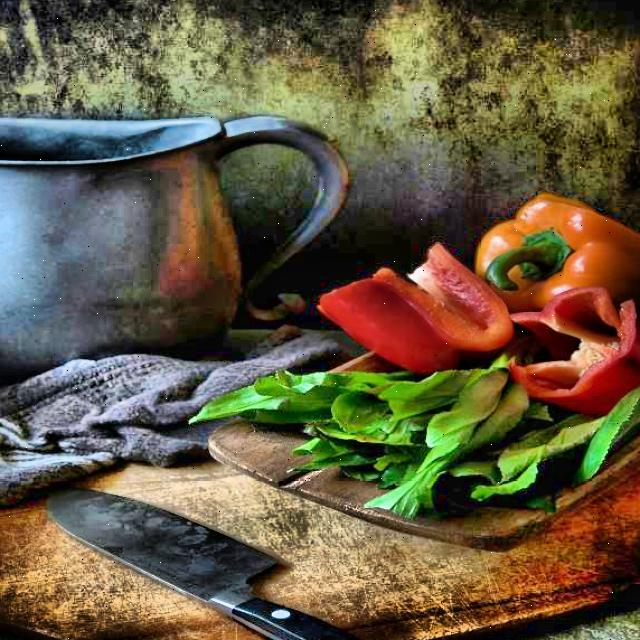knife: (36, 482, 482, 640)
